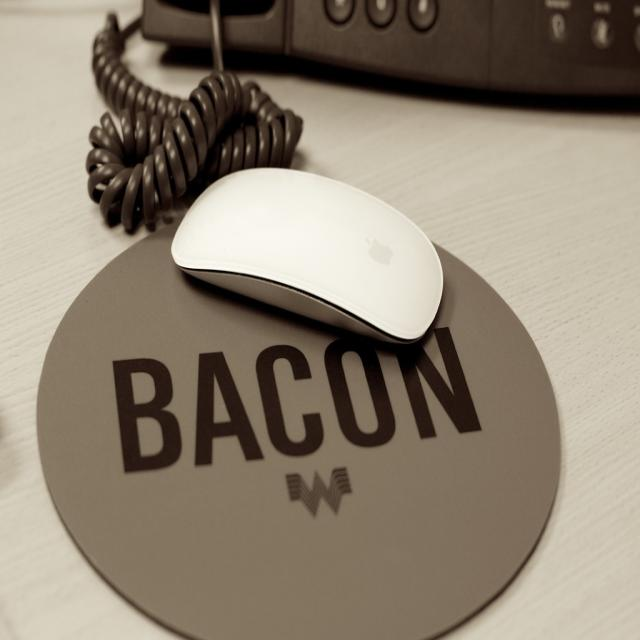Computer mouse: (169, 166, 446, 350)
